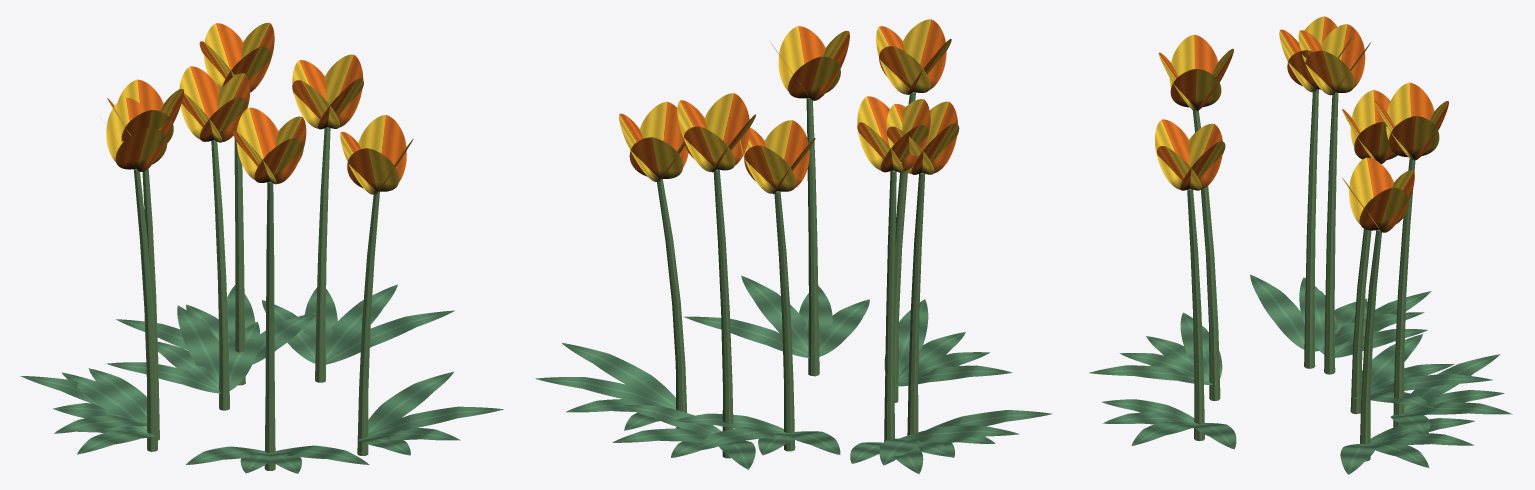
The model's file is arctic_poppy_v02.fbx.
The picture shows the model from 3 angles, left to right: view 1: azimuth 30°, elevation 25°; view 2: azimuth 150°, elevation 25°; view 3: azimuth 270°, elevation 25°; orthographic projection. The views are drawn at different scales.
Parts seen in each view (by area): view 1: arctic_poppy_v02; view 2: arctic_poppy_v02; view 3: arctic_poppy_v02.
Boxes of the visible parts, x1=… form: arctic_poppy_v02: x1=20, y1=22, x2=503, y2=473; arctic_poppy_v02: x1=535, y1=19, x2=1052, y2=473; arctic_poppy_v02: x1=1089, y1=16, x2=1512, y2=474.
Bounding box in the file's own units: 28.69 × 25.66 × 22.26.
Materials: 3 (3 with a texture image).
